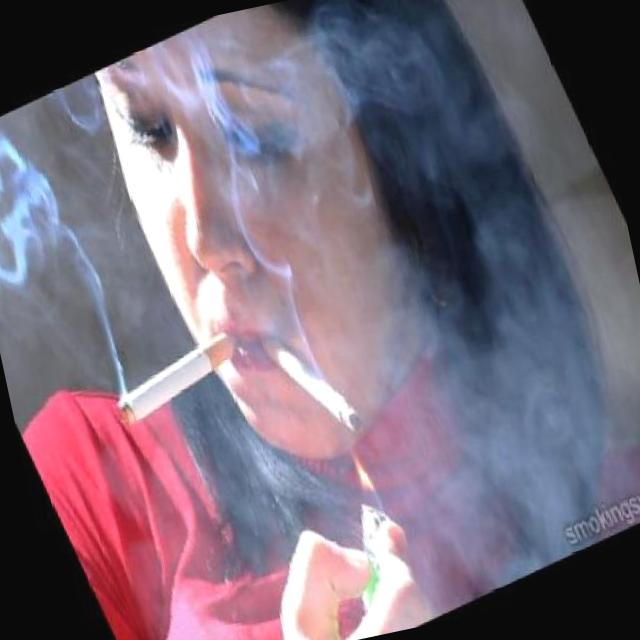cigarette: (98, 323, 260, 435), (256, 308, 371, 463)
